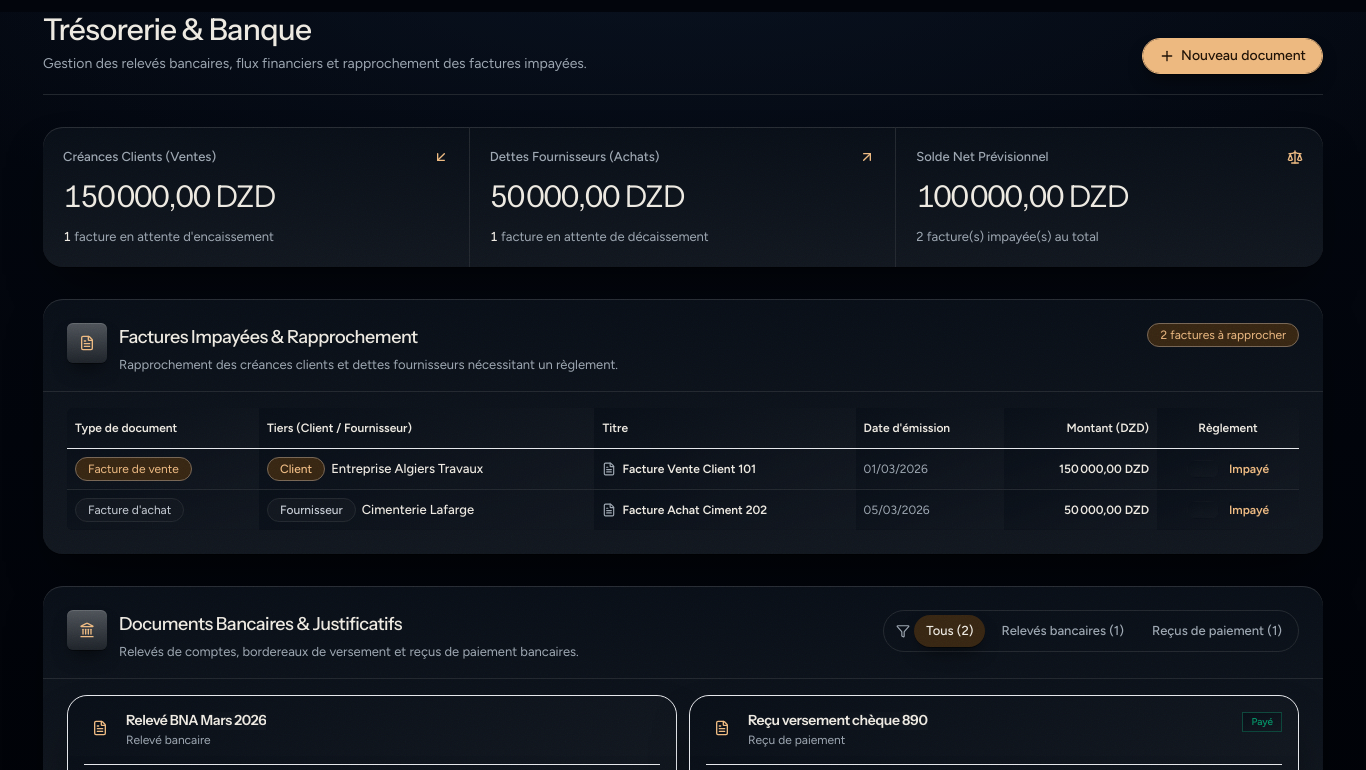
Test: TresoreriePage › renders Section 2: Documents Bancaires & Justificatifs and filters by document type
The image size is (1366, 770).
Expected: the heading "Documents Bancaires & Justificatifs" is shown, [119, 613, 402, 635]
Expected: the text "Relevé BNA Mars 2026" is shown, [126, 712, 266, 730]
# Filter to RELEVE_BANCAIRE only
Click the button "Relevés bancaires (1)". click: (1063, 631)
box: [990, 615, 1136, 647]
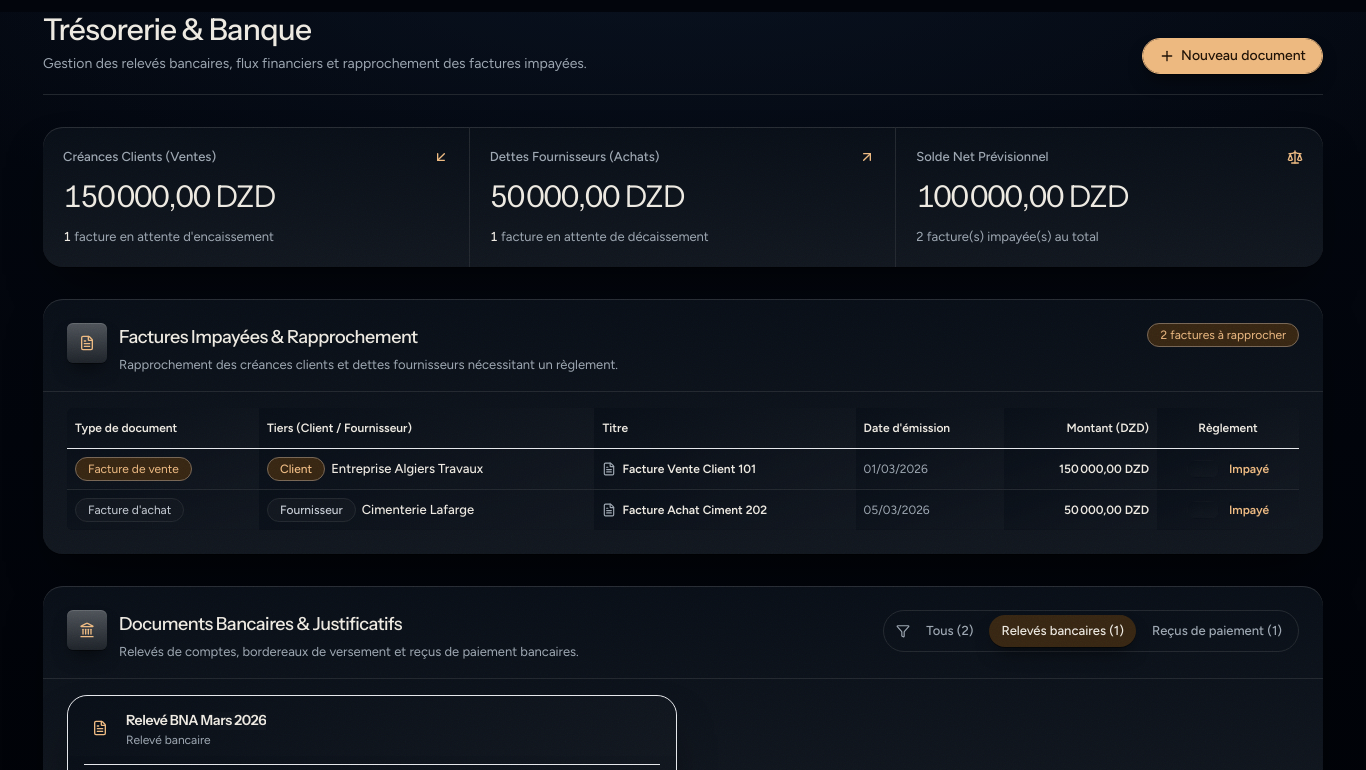
Expected: the text "Relevé BNA Mars 2026" is shown, [126, 712, 266, 730]
Now the button "Reçu versement chèque 890" is gone
# Filter to RECU_PAIEMENT only
Click the button "Reçus de paiement (1)". click: (1217, 631)
box: [1140, 615, 1294, 647]
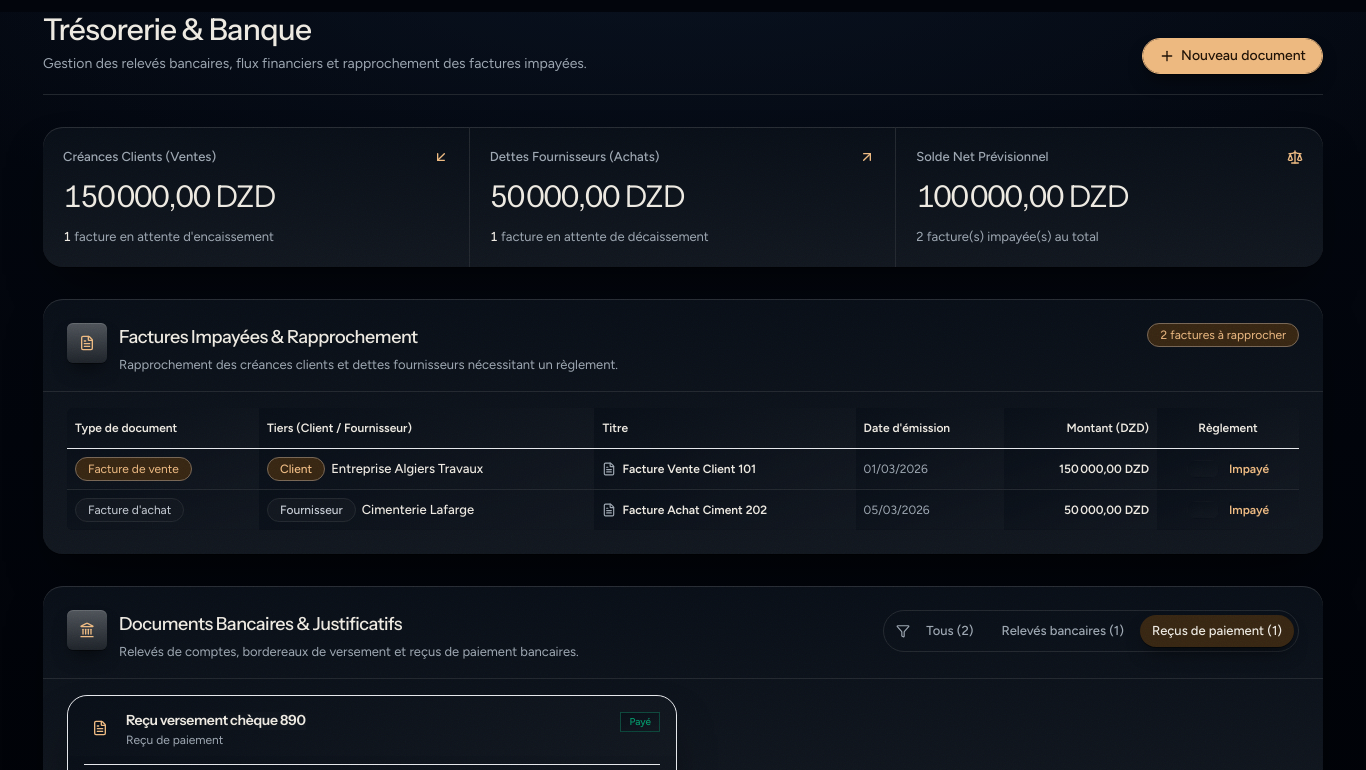
Now the button "Relevé BNA Mars 2026" is gone
Now the text "Reçu versement chèque 890" is shown, box [126, 712, 306, 730]
# Filter back to ALL
Click the button "Tous (2)". click: (950, 631)
box: [914, 615, 986, 647]
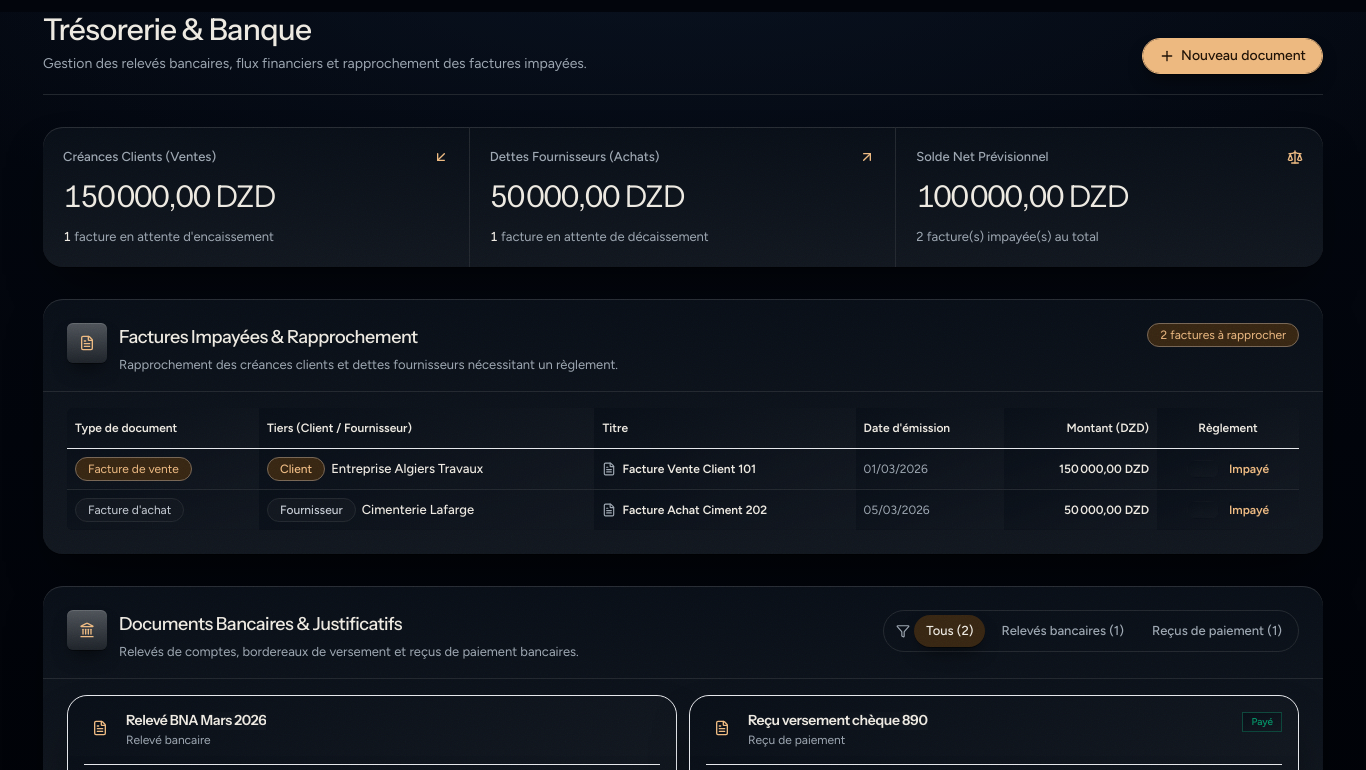
Now the text "Reçu versement chèque 890" is shown, box [748, 712, 928, 730]
Now the text "Relevé BNA Mars 2026" is shown, box [126, 712, 266, 730]
